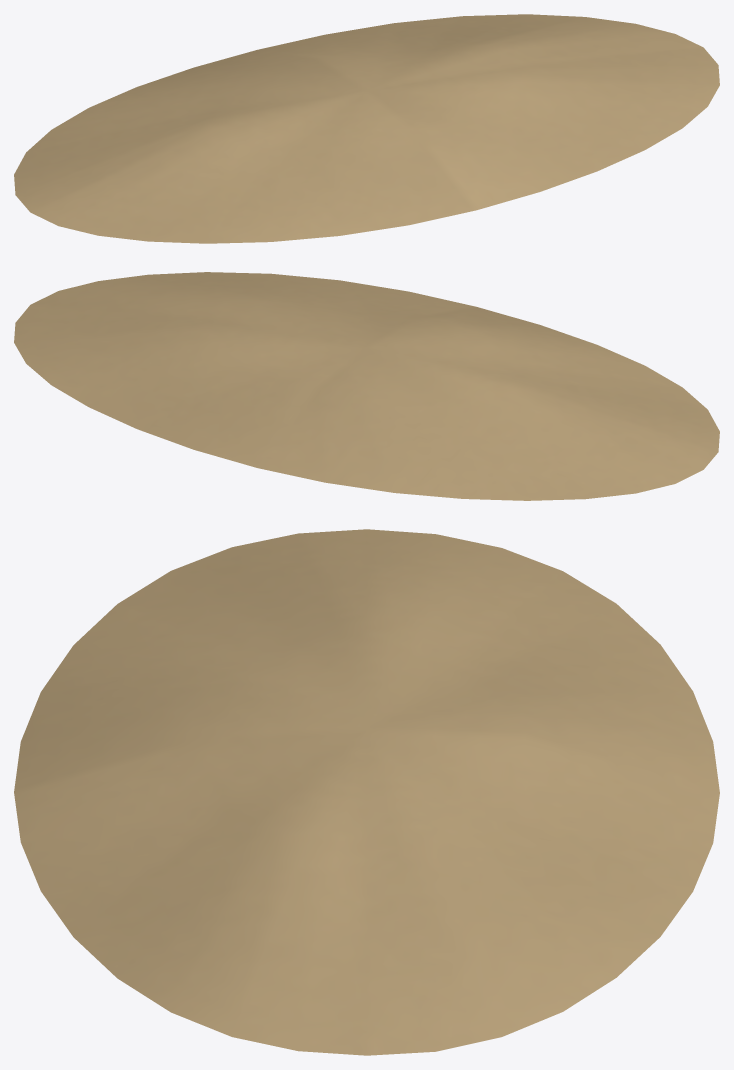
The model's file is Sand_Drift_3.glb.
3 renders of one model, top to bottom at view 1: azimuth 30°, elevation 25°; view 2: azimuth 150°, elevation 25°; view 3: azimuth 270°, elevation 25°, orthographic. The views are drawn at different scales.
Visible parts, largest first — view 1: Sand_Drift_3; view 2: Sand_Drift_3; view 3: Sand_Drift_3.
Part boxes in pixels (x1=…): Sand_Drift_3: x1=14, y1=14, x2=719, y2=243; Sand_Drift_3: x1=14, y1=272, x2=719, y2=500; Sand_Drift_3: x1=14, y1=529, x2=719, y2=1055.
Bounding box in the file's own units: 4.6 × 0.2598 × 2.6.
Materials: 1 (1 with a texture image).
